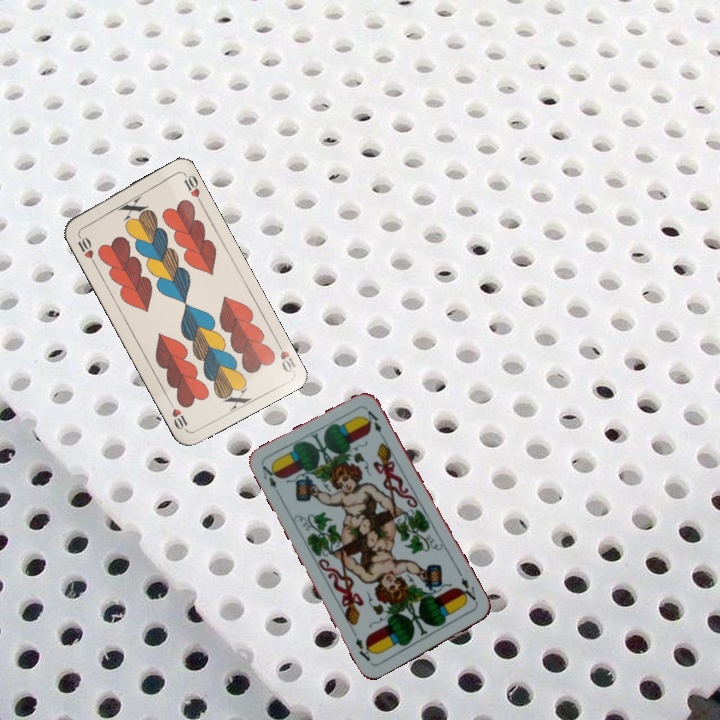EA: (258, 462, 283, 499), (456, 573, 481, 607)
H10: (272, 336, 299, 375), (73, 229, 98, 267)
